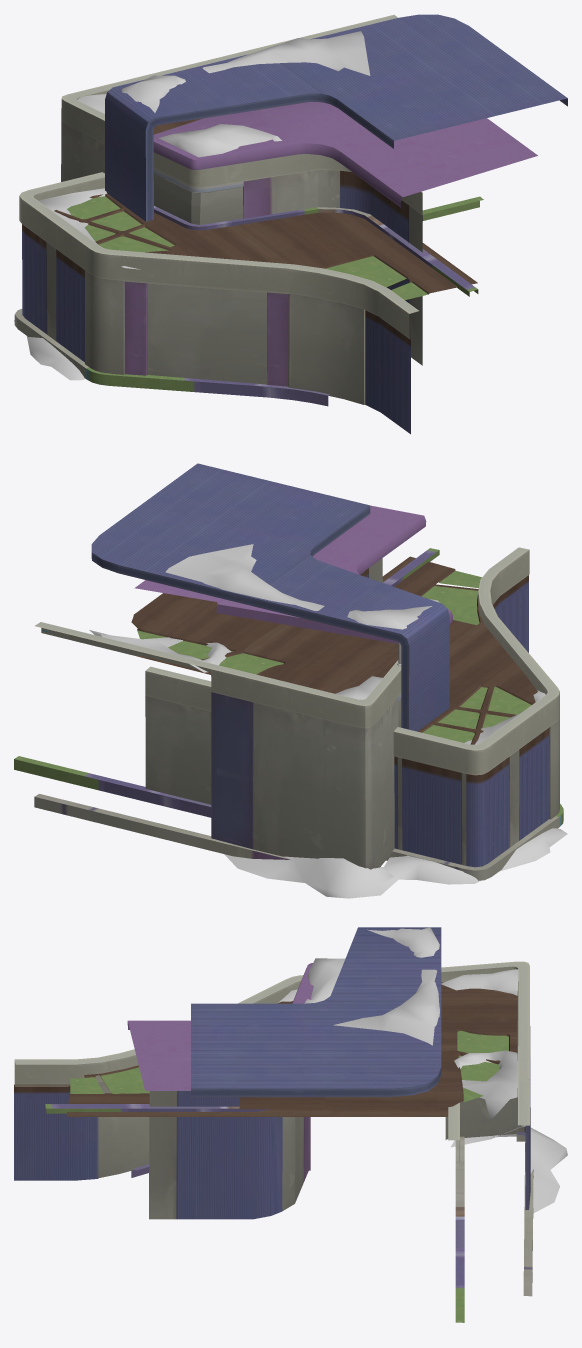
The model's file is pref_sm_city_shop07_snow_lv3.fbx.
3 renders of one model, top to bottom at view 1: azimuth 30°, elevation 25°; view 2: azimuth 150°, elevation 25°; view 3: azimuth 270°, elevation 25°, orthographic.
Visible parts, largest first — view 1: sm_city_shop07_snow_lv3, sm_city_shop07b_snow_lv3; view 2: sm_city_shop07_snow_lv3, sm_city_shop07b_snow_lv3; view 3: sm_city_shop07_snow_lv3, sm_city_shop07b_snow_lv3.
Part boxes in pixels (x1,y1,x2,y2): sm_city_shop07_snow_lv3: [14, 14, 567, 434]; sm_city_shop07b_snow_lv3: [14, 31, 370, 380]; sm_city_shop07_snow_lv3: [14, 463, 563, 880]; sm_city_shop07b_snow_lv3: [89, 544, 567, 898]; sm_city_shop07_snow_lv3: [14, 927, 533, 1322]; sm_city_shop07b_snow_lv3: [278, 927, 567, 1213].
Size of the model in its own units: 21.35 by 9.58 by 20.86.
